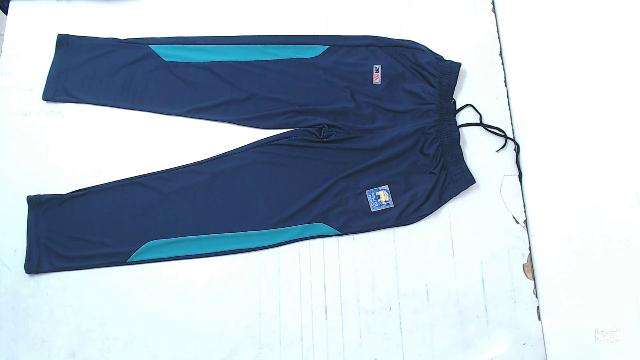new-garment: (24, 34, 475, 273)
